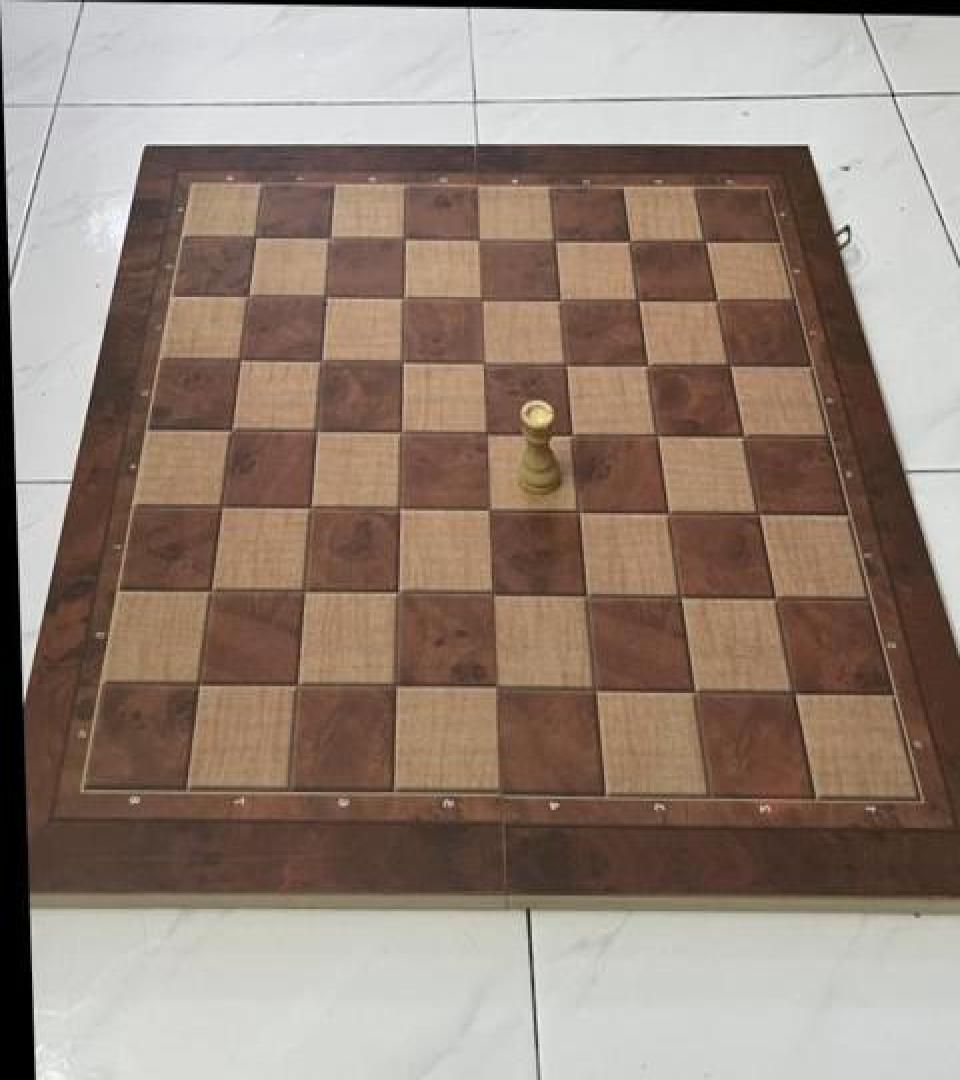xcorner: (311, 219, 345, 258), (386, 219, 420, 258), (278, 669, 312, 708), (236, 218, 270, 256), (461, 220, 495, 258), (536, 222, 570, 260), (612, 222, 646, 260), (687, 223, 721, 261), (229, 278, 263, 316), (307, 279, 341, 317), (385, 279, 419, 317), (463, 280, 497, 318), (541, 280, 575, 318), (620, 282, 654, 320), (699, 282, 733, 320), (221, 342, 255, 380), (302, 343, 336, 381), (383, 343, 417, 381), (465, 344, 499, 382), (547, 346, 581, 384), (629, 346, 663, 384), (711, 346, 745, 384), (212, 412, 246, 450), (297, 413, 331, 451), (382, 414, 416, 452), (467, 415, 501, 453), (553, 416, 587, 454), (639, 416, 673, 454), (725, 418, 759, 456), (202, 490, 236, 528), (291, 490, 325, 528), (380, 492, 414, 530), (470, 493, 504, 531), (560, 493, 594, 531), (650, 494, 684, 532), (740, 495, 774, 533), (191, 574, 225, 612), (285, 575, 319, 613), (379, 576, 413, 614), (473, 577, 507, 615), (567, 578, 601, 616), (661, 580, 695, 618), (756, 580, 790, 618), (179, 667, 213, 705), (377, 670, 411, 708), (476, 672, 510, 710), (575, 673, 609, 711), (675, 674, 709, 712), (774, 676, 808, 714)
